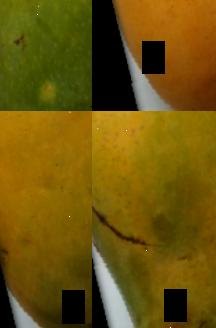PartiallyRipe: (92, 111, 216, 328), (0, 111, 92, 328)
Ripe: (96, 0, 216, 111)
Unripe: (0, 0, 92, 111)
